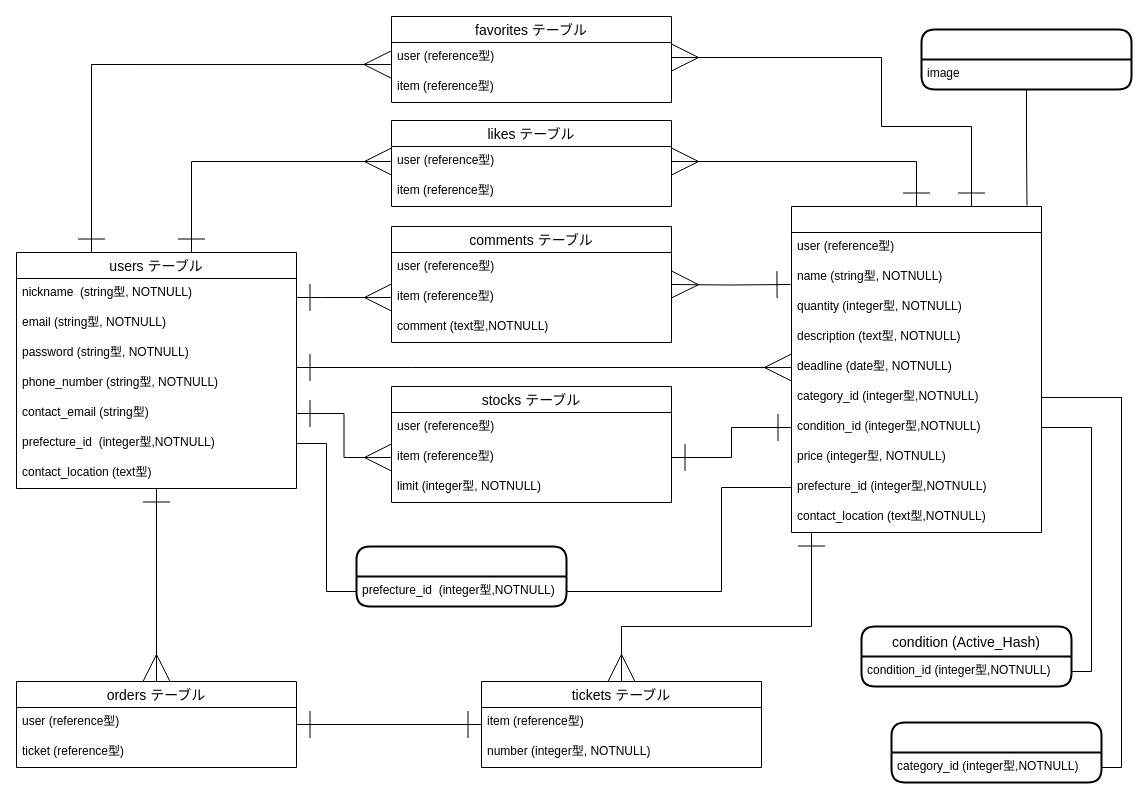
The diagram is 1148 pixels wide and 799 high, and some of its shapes have lost their labels. Each missing label, with the box of its shape:
category (Active_Hash): (890, 721, 1102, 783)
image (Active_Storage): (920, 28, 1132, 90)
items テーブル: (790, 206, 1042, 532)
prefecture (Active_Hash): (355, 545, 567, 607)
